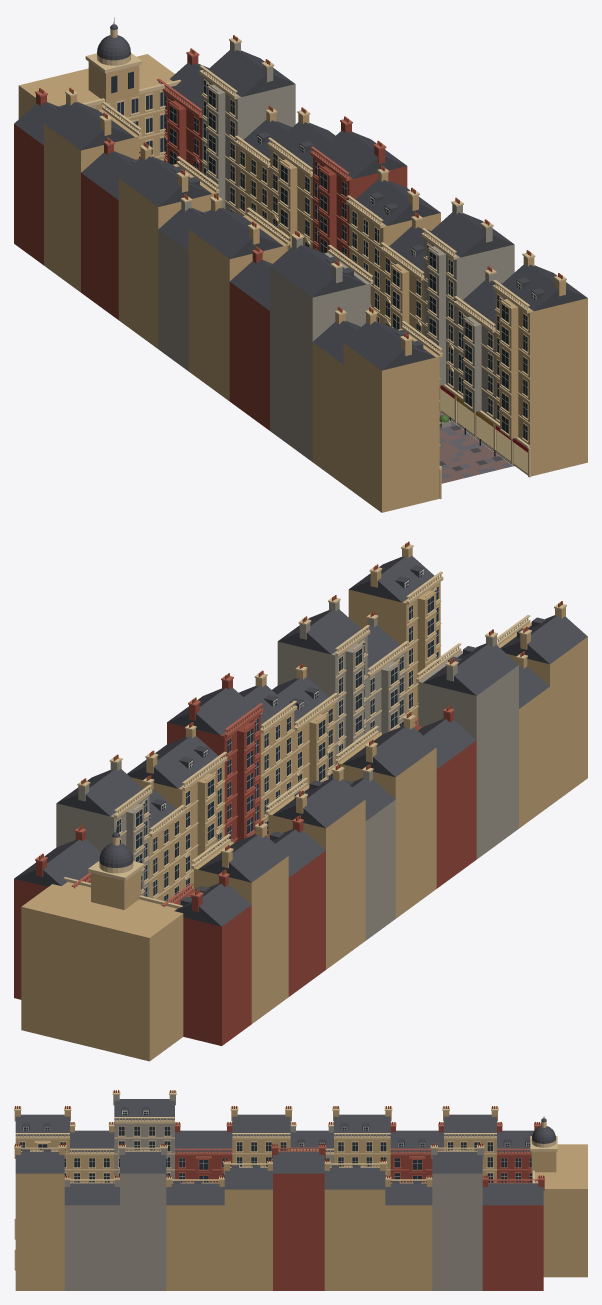
The model's file is glasgow.glb.
3 renders of one model, top to bottom at view 1: azimuth 30°, elevation 25°; view 2: azimuth 150°, elevation 25°; view 3: azimuth 270°, elevation 25°, orthographic. The views are drawn at different scales.
Visible parts, largest first — view 1: GlasgowStreet; view 2: GlasgowStreet; view 3: GlasgowStreet.
Boxes of the visible parts, x1,y1,x2,y2 form: GlasgowStreet: (14,17,587,512); GlasgowStreet: (14,541,587,1061); GlasgowStreet: (14,1090,587,1290).
Size of the model in its own units: 32 by 30.05 by 108.
